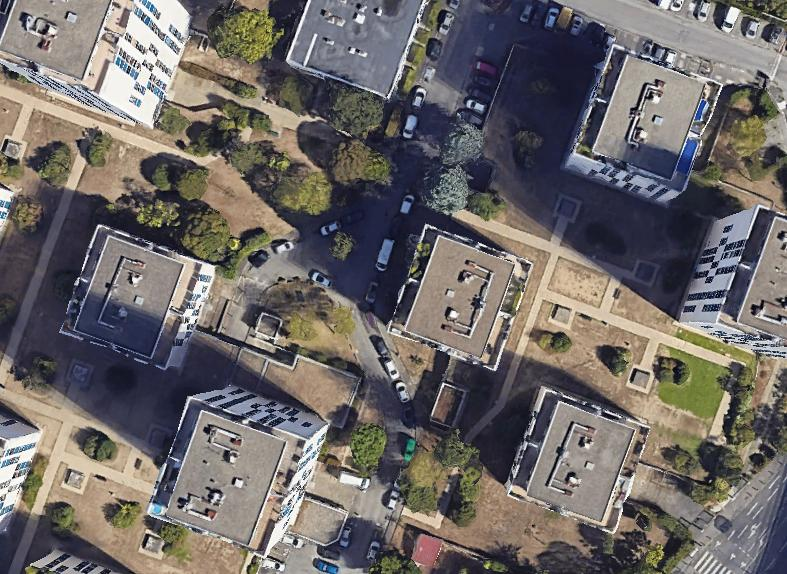immeuble: (145, 368, 332, 562), (561, 42, 721, 210), (58, 224, 218, 375), (0, 0, 190, 126), (501, 383, 651, 533), (385, 224, 533, 370), (679, 205, 786, 358), (282, 0, 425, 101), (0, 413, 41, 530), (27, 549, 122, 573)
